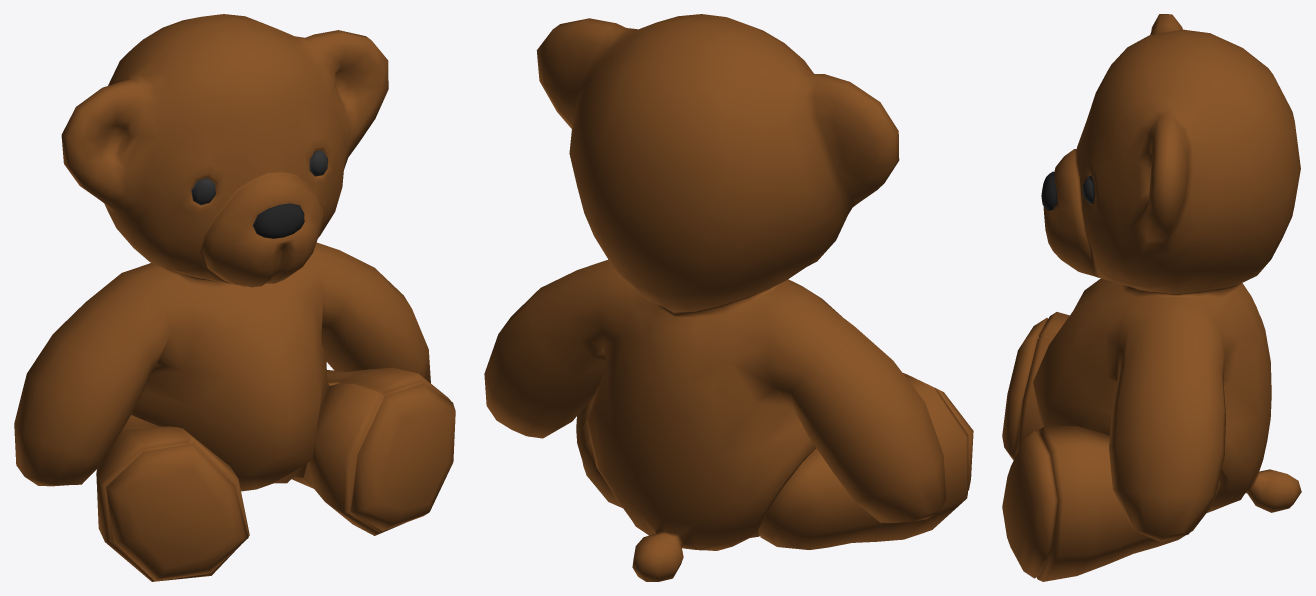
The model's file is uploads_files_2855872_teddy+bear2.fbx.
3 views of the same model, side by side, from view 1: azimuth 30°, elevation 25°; view 2: azimuth 150°, elevation 25°; view 3: azimuth 270°, elevation 25° (orthographic). The views are drawn at different scales.
Visible parts, largest first — view 1: bear; view 2: bear; view 3: bear.
Part boxes in pixels (x1=…): bear: x1=14, y1=14, x2=455, y2=581; bear: x1=484, y1=14, x2=973, y2=581; bear: x1=1002, y1=14, x2=1301, y2=581.
Size of the model in its own units: 42.89 by 48.45 by 27.63.
